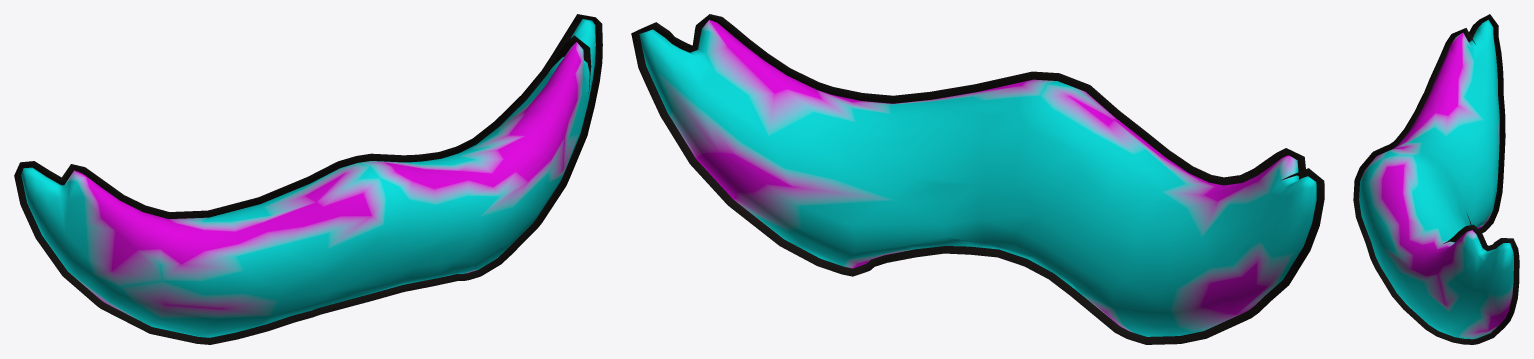
File: beard_moustache_female_hi.glb
3 renders of one model, left to right at view 1: azimuth 30°, elevation 25°; view 2: azimuth 150°, elevation 25°; view 3: azimuth 270°, elevation 25°, orthographic. The views are drawn at different scales.
Parts seen in each view (by area): view 1: beard_moustache_female_hi; view 2: beard_moustache_female_hi; view 3: beard_moustache_female_hi.
Part boxes in pixels (x1,y1,x2,y2): beard_moustache_female_hi: (14,14,602,344); beard_moustache_female_hi: (631,14,1324,344); beard_moustache_female_hi: (1353,14,1519,344).
Bounding box in the file's own units: 0.3348 × 0.1093 × 0.1015.
